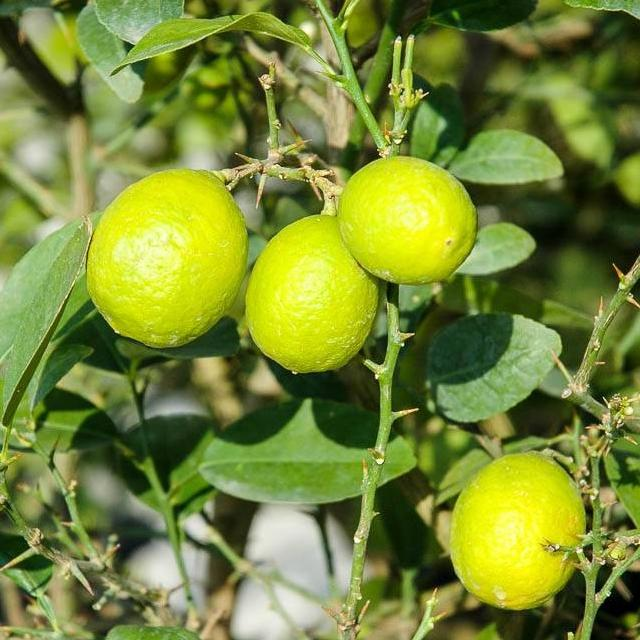lime: (85, 169, 249, 356), (442, 453, 587, 613), (243, 213, 380, 381), (336, 157, 478, 286)
